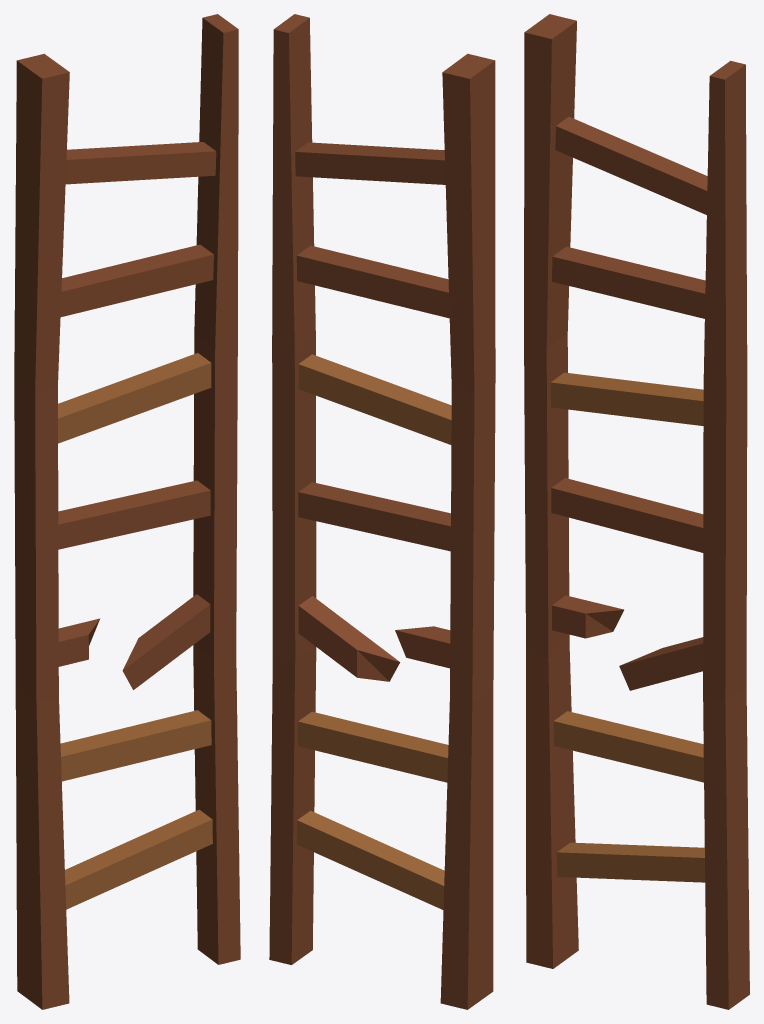
The model's file is LP_PostApoc_ShortLadder.fbx.
3 views of the same model, side by side, from view 1: azimuth 30°, elevation 25°; view 2: azimuth 150°, elevation 25°; view 3: azimuth 330°, elevation 25° (orthographic).
Parts seen in each view (by area): view 1: ShortLadder; view 2: ShortLadder; view 3: ShortLadder.
Boxes of the visible parts, bbox=[...] form: ShortLadder: bbox=[14, 14, 240, 1009]; ShortLadder: bbox=[269, 14, 495, 1009]; ShortLadder: bbox=[524, 14, 749, 1009].
Size of the model in its own units: 46.45 by 201 by 10.29.
